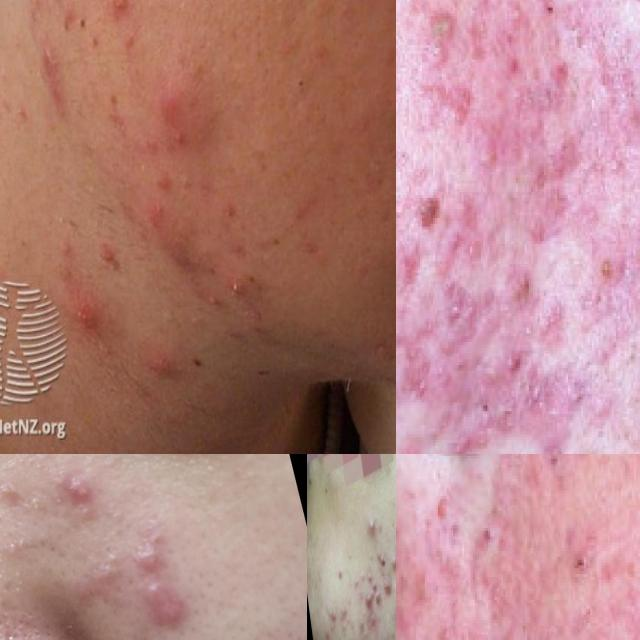comedone: (282, 66, 318, 120), (24, 614, 72, 640), (0, 612, 34, 640), (7, 531, 38, 559), (74, 500, 101, 529), (104, 541, 128, 569), (351, 562, 374, 591), (21, 454, 52, 474), (325, 600, 340, 633), (387, 530, 396, 582), (29, 492, 44, 518), (339, 615, 351, 640), (52, 494, 66, 514)
papule: (152, 76, 225, 132), (53, 302, 109, 366), (130, 359, 192, 404), (130, 532, 176, 578), (74, 568, 117, 617), (140, 580, 175, 634), (102, 0, 138, 38), (0, 470, 29, 513), (61, 471, 96, 506), (362, 591, 378, 620), (335, 596, 350, 625), (384, 577, 393, 608), (391, 595, 396, 633)
pustule: (224, 264, 255, 322), (360, 508, 381, 545)
sebo-crystan-conglo: (105, 508, 211, 640)
